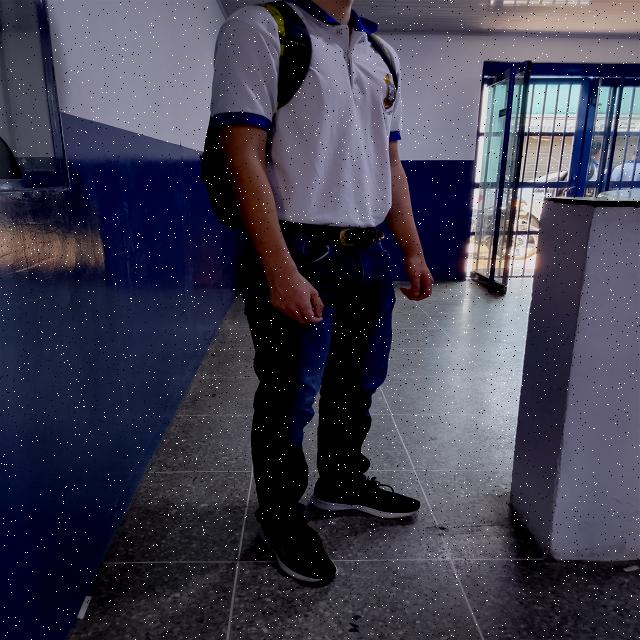pantalon_oscuro: (240, 231, 396, 531)
uniforme_superior: (210, 0, 402, 228)
